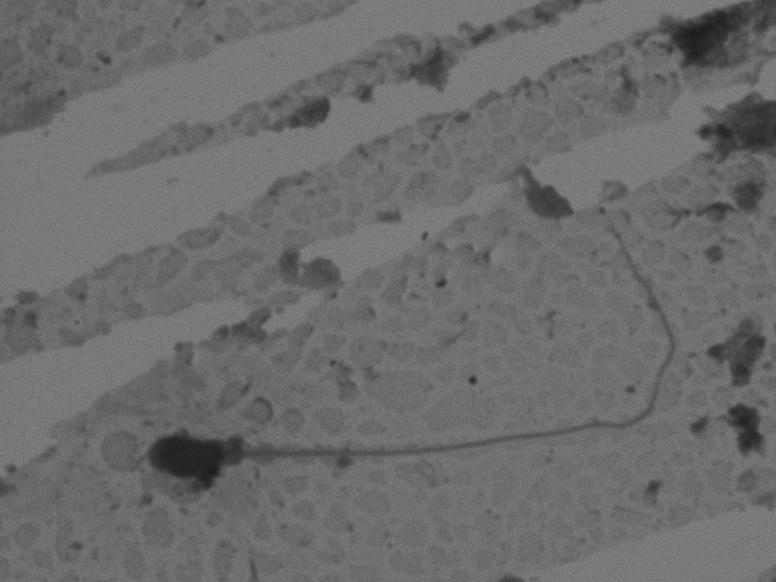Abnormal: (139, 220, 676, 538)
